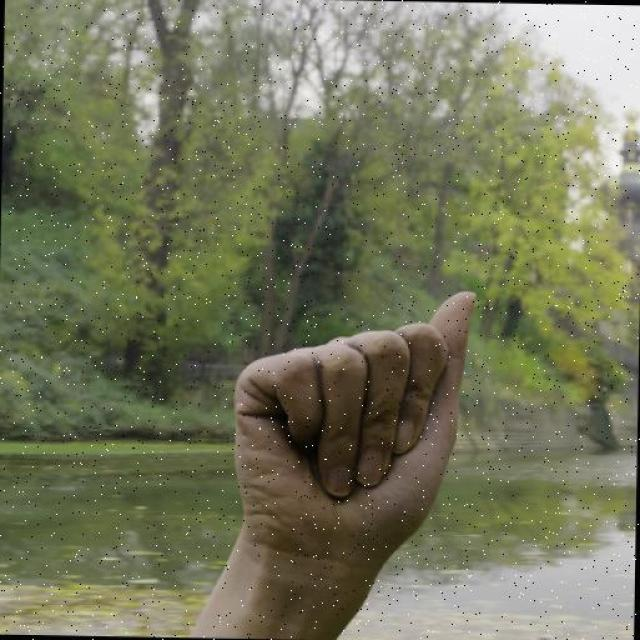A: (229, 283, 478, 556)
